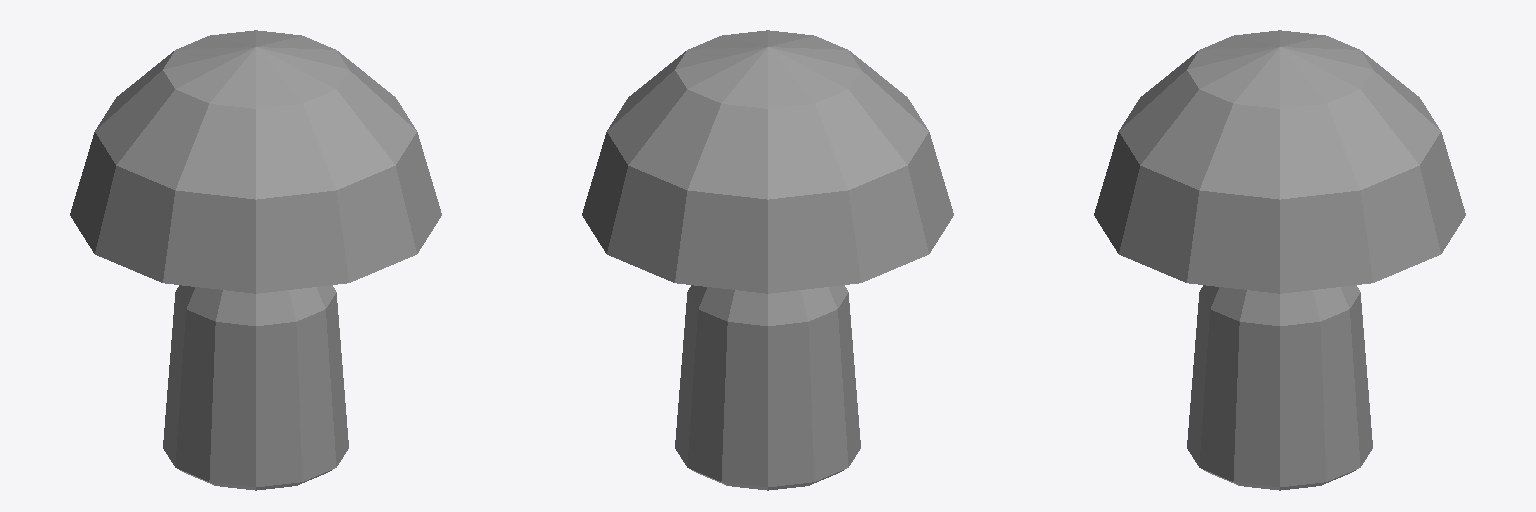
The model's file is mushroomg1.obj.
The picture shows the model from 3 angles: view 1: azimuth 30°, elevation 25°; view 2: azimuth 150°, elevation 25°; view 3: azimuth 270°, elevation 25°; orthographic projection.
Visible parts, largest first — view 1: Sphere; view 2: Sphere; view 3: Sphere.
Part boxes in pixels (x1,y1,x2,y2): Sphere: (70,30,441,490); Sphere: (582,30,953,490); Sphere: (1094,30,1465,490).
Size of the model in its own units: 0.1 by 0.1238 by 0.1.